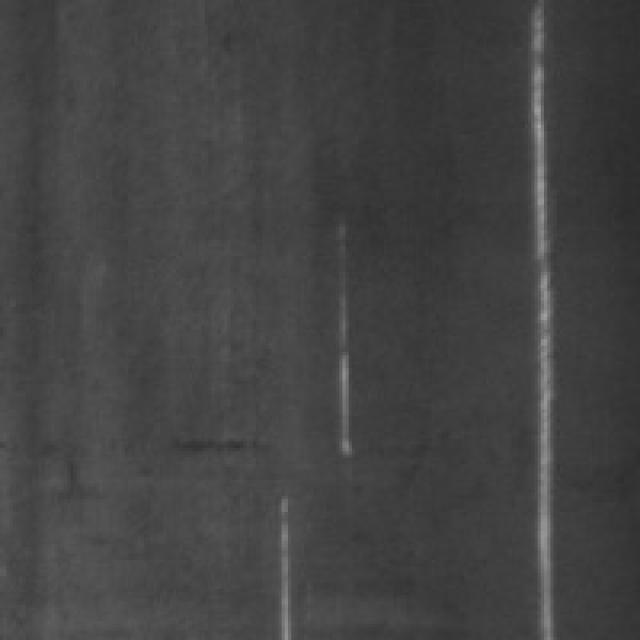scratches: (525, 0, 566, 637)
